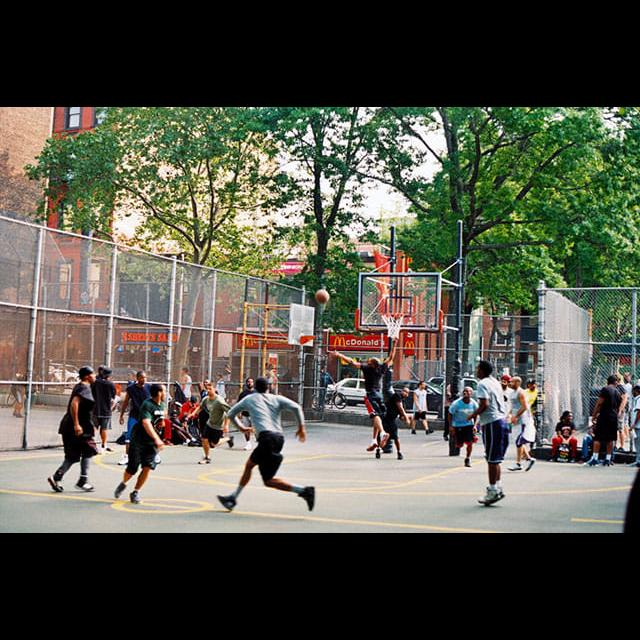basketball: (313, 290, 331, 304)
hoop: (381, 313, 404, 339)
